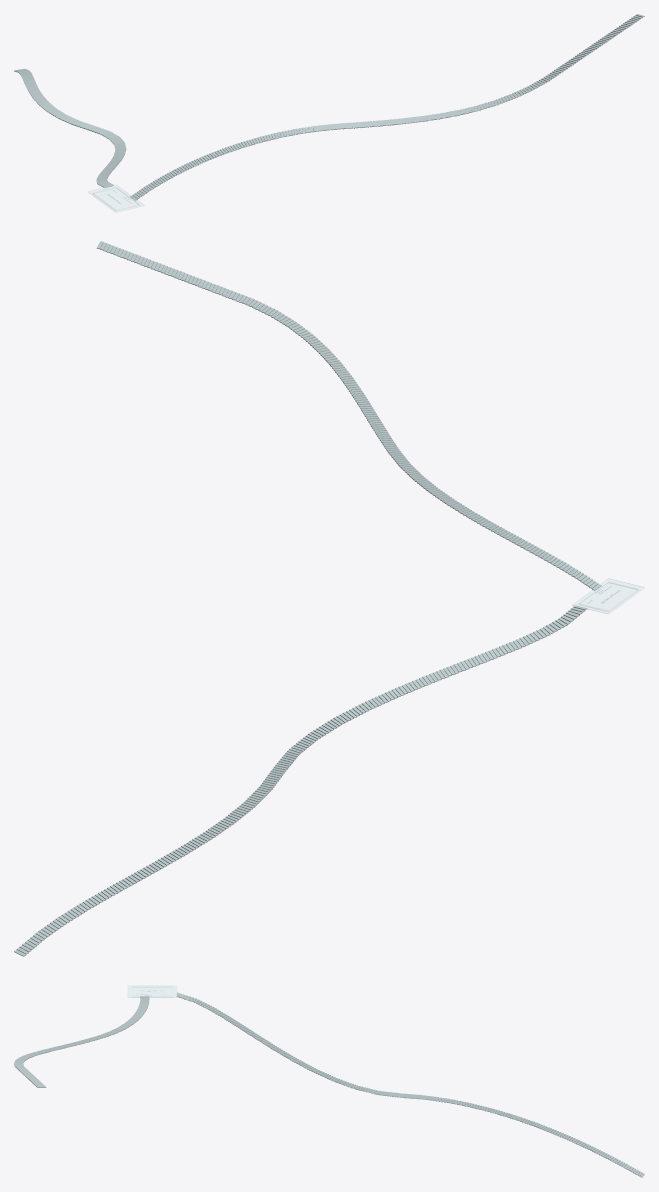
The model's file is glass.glb.
The picture shows the model from 3 angles, top to bottom: view 1: azimuth 30°, elevation 25°; view 2: azimuth 150°, elevation 25°; view 3: azimuth 270°, elevation 25°; orthographic projection. The views are drawn at different scales.
Parts seen in each view (by area): view 1: Cube, Cube.001, Plane.001; view 2: Cube.001, Cube, Plane.001; view 3: Cube.001, Cube, Plane.001.
Part boxes in pixels (<box>): Cube: <box>130,14,644,200</box>; Cube.001: <box>14,69,126,187</box>; Plane.001: <box>88,185,144,212</box>; Cube.001: <box>14,605,587,956</box>; Cube: <box>96,241,601,590</box>; Plane.001: <box>572,578,644,614</box>; Cube.001: <box>176,992,644,1177</box>; Cube: <box>14,996,149,1087</box>; Plane.001: <box>127,985,176,997</box>.
Bounding box in the file's own units: 141 × 67.07 × 183.
